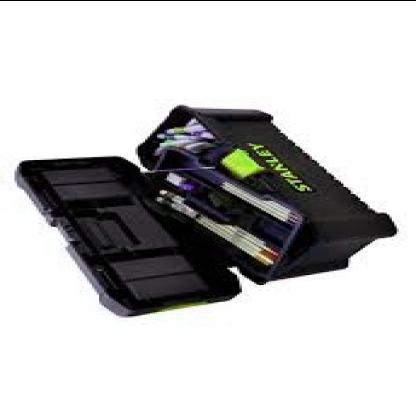Tool Box: (7, 100, 403, 320)
